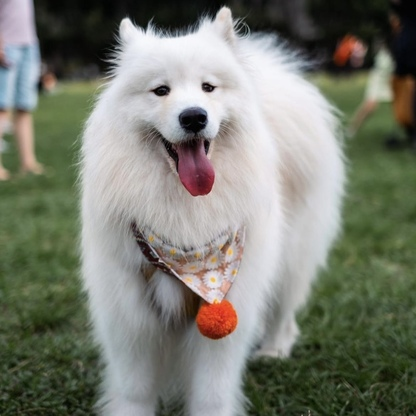samoyed: (71, 6, 353, 416)
